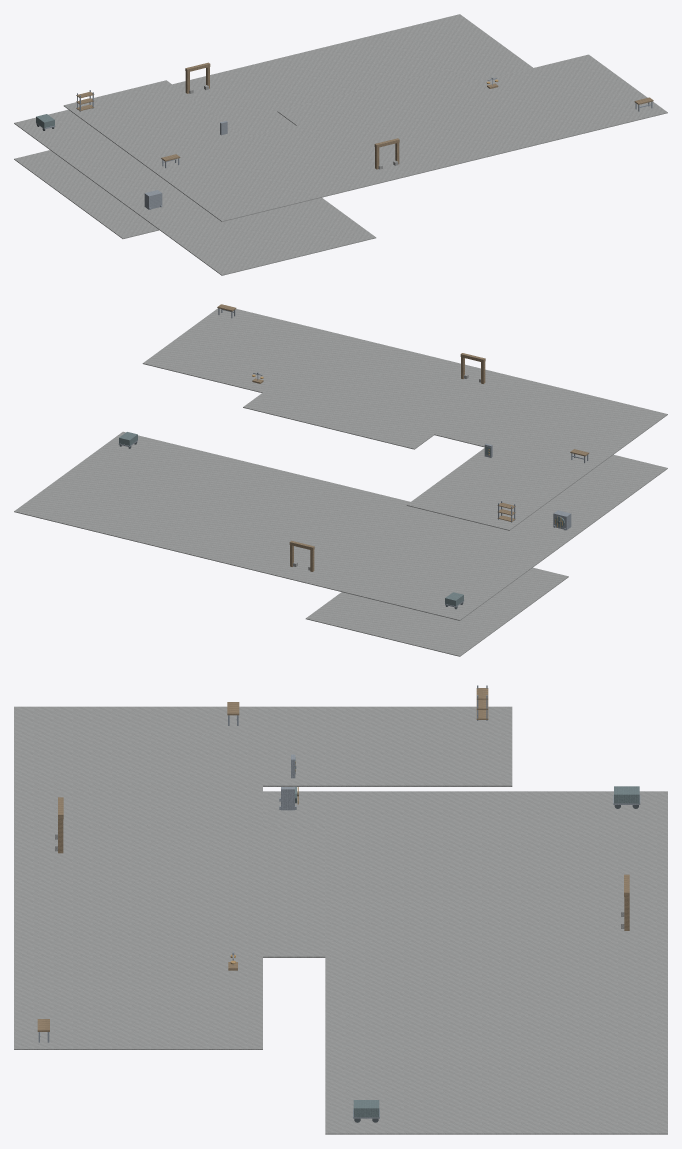
Rendered from wld-05.glb.
3 views of the same model, one above another, from view 1: azimuth 30°, elevation 25°; view 2: azimuth 150°, elevation 25°; view 3: azimuth 270°, elevation 25° (orthographic). The views are drawn at different scales.
Visible parts, largest first — view 1: review_fit_wld; view 2: review_fit_wld; view 3: review_fit_wld.
Part boxes in pixels (x1,y1,x2,y2): review_fit_wld: (14,14,667,275); review_fit_wld: (14,304,667,656); review_fit_wld: (14,685,667,1134).
Bounding box in the file's own units: 52 × 12.83 × 42.
6 materials, 6 textured.
